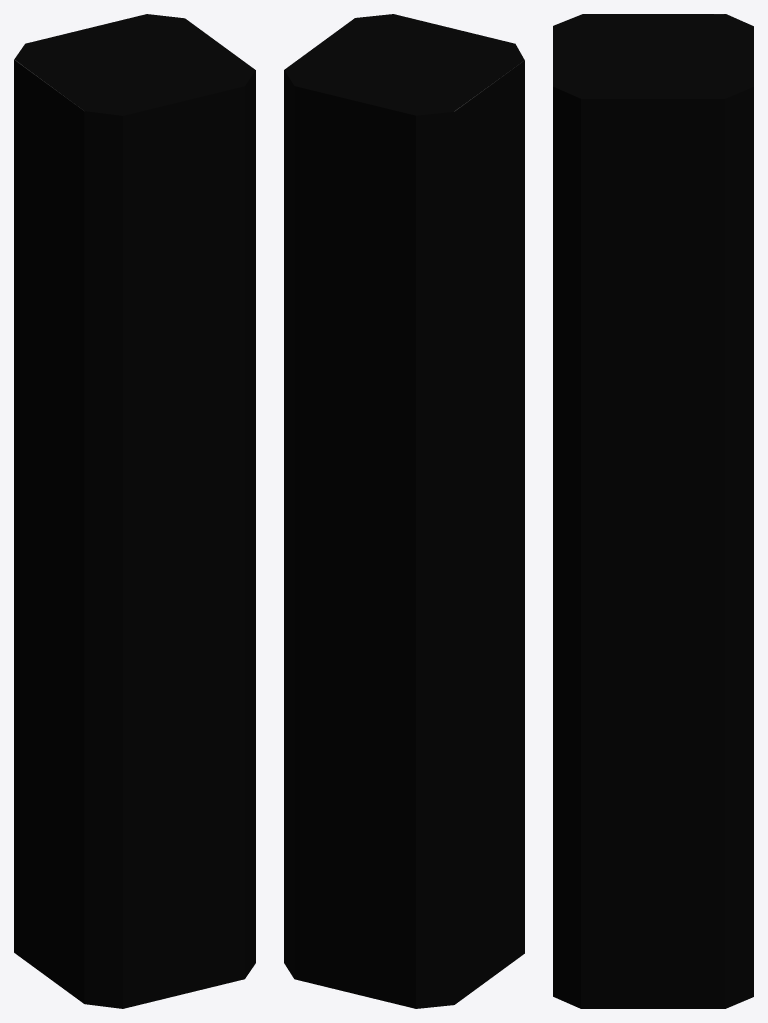
The model's file is obj_industrial_supportpillar.fbx.
The picture shows the model from 3 angles, left to right: view 1: azimuth 30°, elevation 25°; view 2: azimuth 150°, elevation 25°; view 3: azimuth 270°, elevation 25°; orthographic projection.
Parts seen in each view (by area): view 1: obj_industrial_supportpillar:_submesh0; view 2: obj_industrial_supportpillar:_submesh0; view 3: obj_industrial_supportpillar:_submesh0.
Part boxes in pixels (x1=…): obj_industrial_supportpillar:_submesh0: x1=14, y1=14, x2=255, y2=1008; obj_industrial_supportpillar:_submesh0: x1=284, y1=14, x2=524, y2=1008; obj_industrial_supportpillar:_submesh0: x1=553, y1=14, x2=753, y2=1008.
Bounding box in the file's own units: 1 × 5 × 1.
